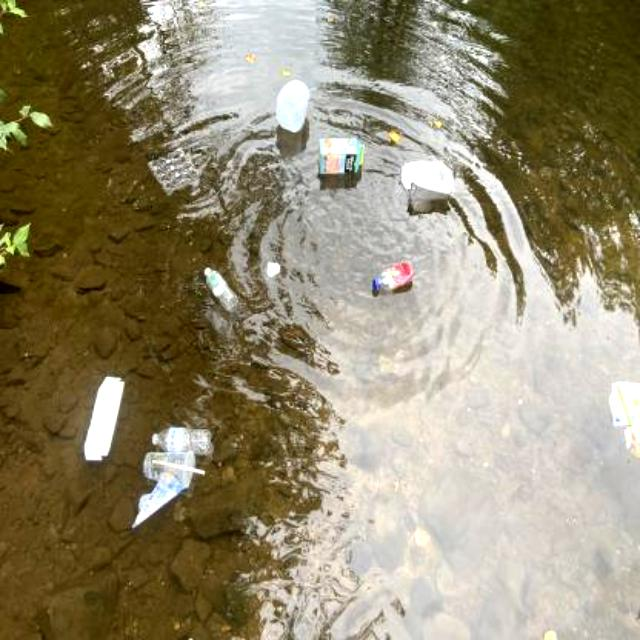Cardboard: (593, 372, 639, 462), (311, 130, 369, 178)
Metal: (394, 154, 462, 208)
Paper: (76, 370, 128, 466)
Plastic: (140, 423, 213, 483), (128, 469, 190, 529), (146, 144, 198, 198), (270, 76, 314, 134), (368, 256, 422, 298), (202, 262, 242, 314)
